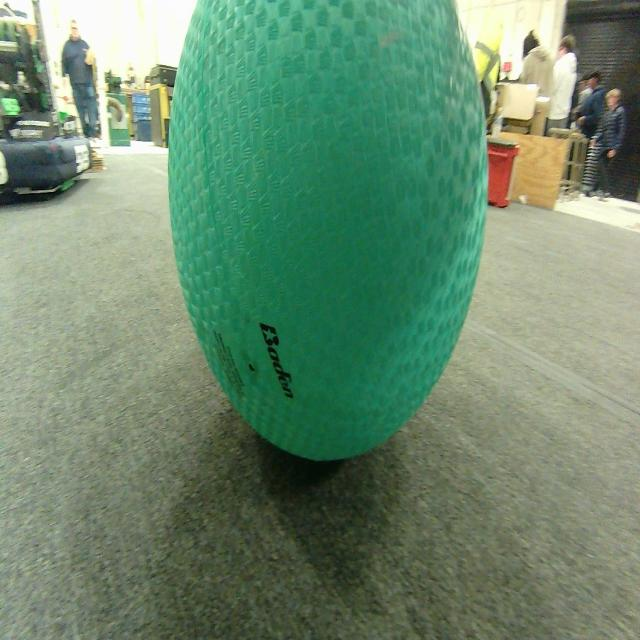algae: (168, 0, 487, 460)
